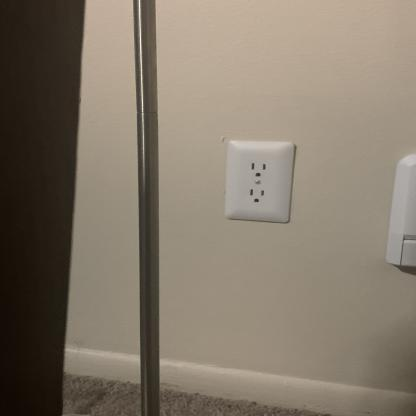OUTLET: (226, 140, 294, 224)
